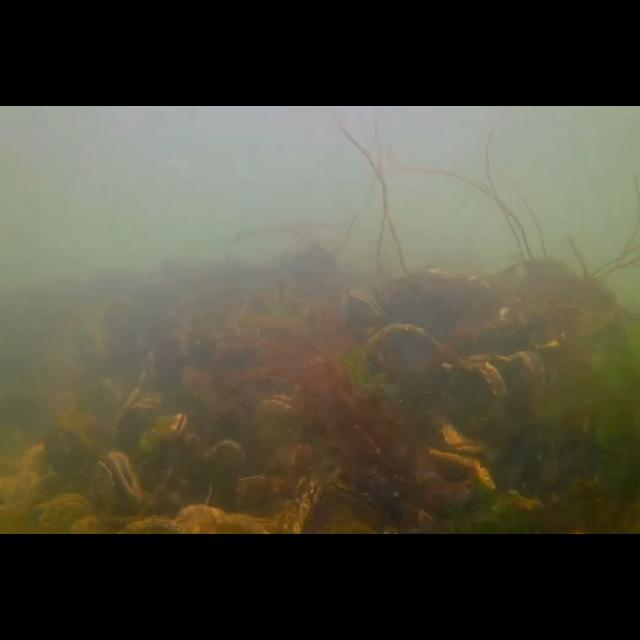Oyster-Closed: (366, 322, 450, 378), (470, 349, 546, 398), (441, 359, 507, 411), (429, 448, 497, 489), (207, 439, 247, 495), (40, 493, 91, 535), (121, 352, 155, 414), (442, 422, 494, 452), (254, 391, 300, 417)
Oyster-Open: (90, 451, 144, 535), (347, 290, 385, 346), (138, 412, 188, 452), (290, 474, 322, 534), (125, 396, 163, 420)
